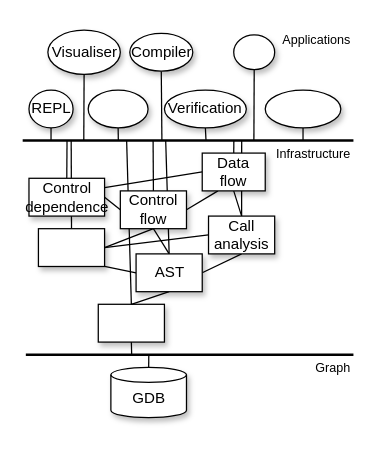
Image size: 383x449. Some labels were removed from this diagram. Here are the shapes that lost their labels. From the top down, the centre of each, then its label:
the point at 254,53: IDE
the point at 119,110: Metrics
the point at 303,110: Self-tests
the point at 72,248: Symbol table
the point at 132,324: Parsing
